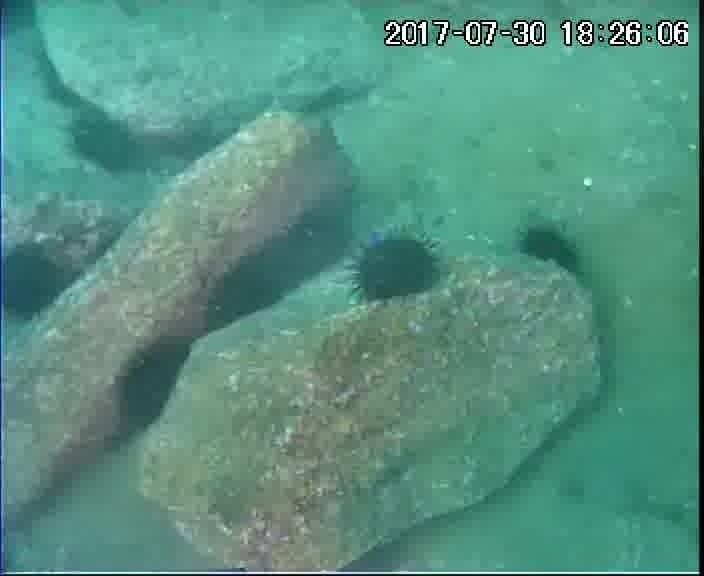echinus: (110, 333, 200, 439), (262, 202, 356, 294), (348, 231, 444, 307), (197, 259, 286, 340), (0, 238, 76, 325), (65, 108, 144, 178), (515, 221, 590, 283)
